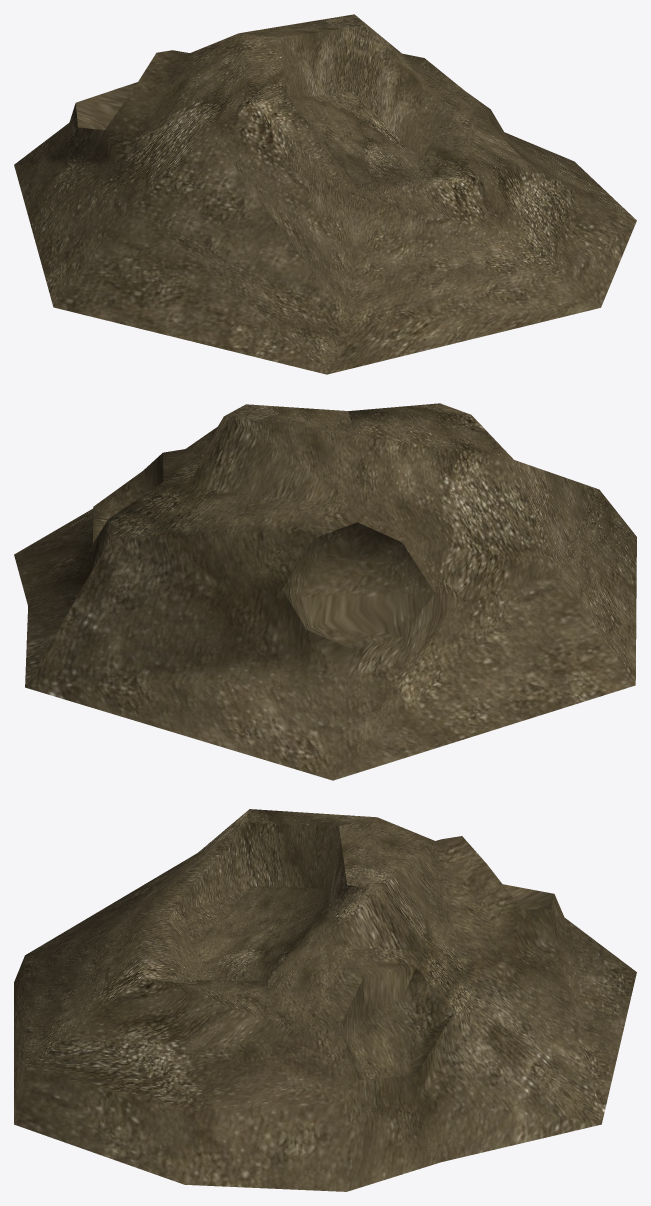
Rendered from scorpion_nest.fbx.
3 views of the same model, one above another, from view 1: azimuth 30°, elevation 25°; view 2: azimuth 150°, elevation 25°; view 3: azimuth 270°, elevation 25° (orthographic). The views are drawn at different scales.
Visible parts, largest first — view 1: nest; view 2: nest; view 3: nest.
Part boxes in pixels (x1=…): nest: x1=14, y1=14, x2=636, y2=374; nest: x1=14, y1=403, x2=636, y2=780; nest: x1=14, y1=809, x2=636, y2=1191.
Size of the model in its own units: 1469 by 517 by 1380.
Materials: 1 (1 with a texture image).
